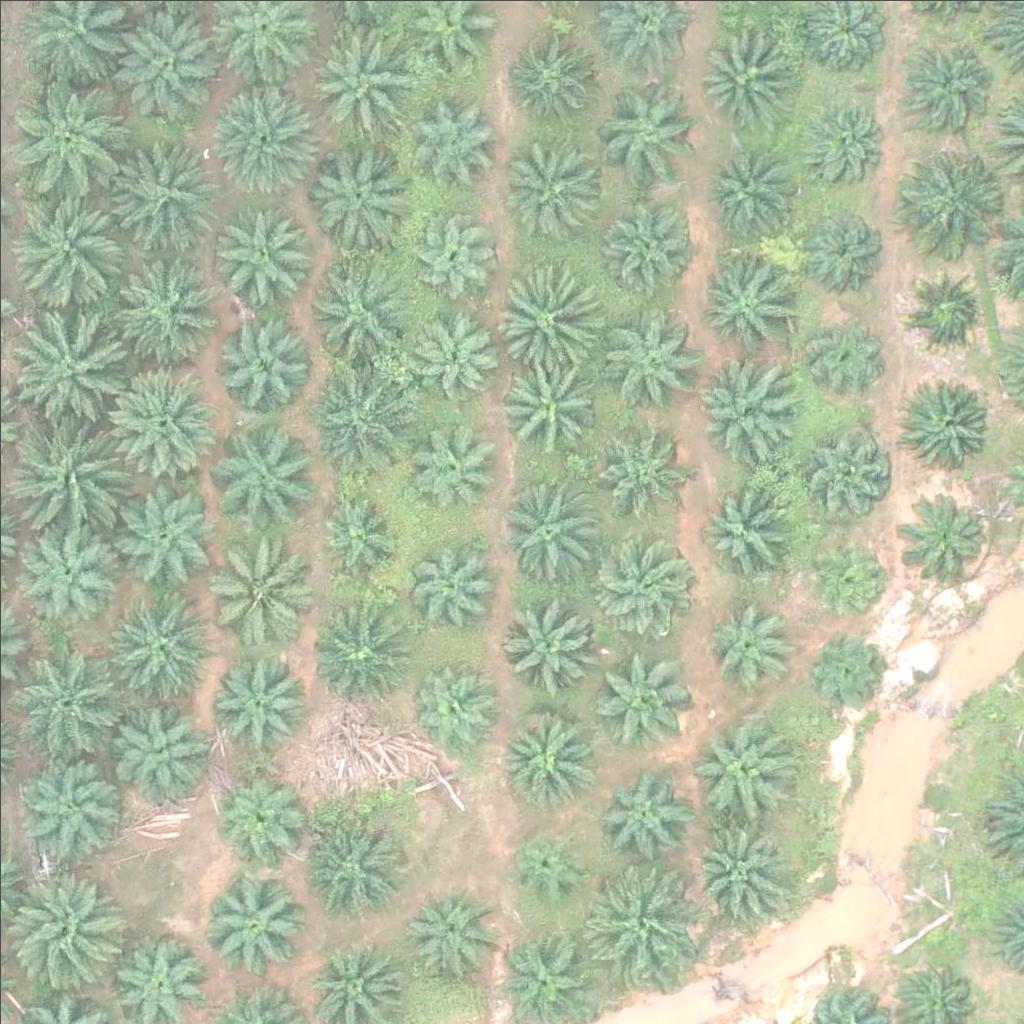Kelapa_Sawit: (105, 140, 218, 254), (585, 863, 698, 977), (15, 415, 128, 528), (6, 186, 119, 299), (112, 5, 225, 118), (105, 251, 218, 364), (208, 414, 321, 527), (206, 79, 319, 192), (300, 17, 413, 130), (302, 259, 415, 372), (301, 359, 414, 472), (107, 593, 220, 706), (12, 80, 124, 194), (492, 259, 604, 373), (10, 303, 122, 416), (107, 367, 219, 480), (893, 140, 1005, 253), (9, 643, 121, 756), (15, 753, 127, 866), (8, 873, 120, 986), (199, 530, 311, 643), (216, 308, 316, 409), (208, 204, 308, 305), (305, 140, 405, 241), (493, 348, 593, 449), (601, 300, 701, 401), (599, 190, 699, 291), (694, 254, 794, 355), (17, 519, 117, 620), (110, 698, 210, 799), (117, 484, 217, 585), (205, 650, 305, 751), (202, 875, 302, 976), (306, 815, 406, 916), (593, 534, 693, 635), (701, 593, 801, 694), (505, 138, 605, 238), (596, 81, 696, 181), (695, 474, 795, 574), (692, 358, 792, 458), (691, 21, 791, 121), (311, 597, 411, 697), (497, 708, 597, 808), (497, 595, 597, 695), (498, 480, 598, 580), (589, 650, 689, 750), (685, 820, 785, 920), (694, 714, 794, 814), (414, 417, 502, 505), (410, 305, 498, 393), (512, 34, 600, 122), (591, 416, 679, 504), (704, 150, 792, 238), (803, 529, 891, 617), (799, 311, 887, 399), (798, 199, 886, 287), (798, 94, 886, 182), (314, 496, 402, 584), (404, 886, 492, 974), (409, 208, 496, 296), (408, 89, 495, 177), (802, 428, 889, 516), (900, 487, 987, 575), (904, 382, 991, 470), (904, 264, 991, 352), (907, 43, 994, 131), (215, 776, 302, 864), (408, 542, 495, 630), (411, 665, 498, 753), (601, 765, 688, 853), (802, 628, 889, 716), (509, 828, 584, 904)
